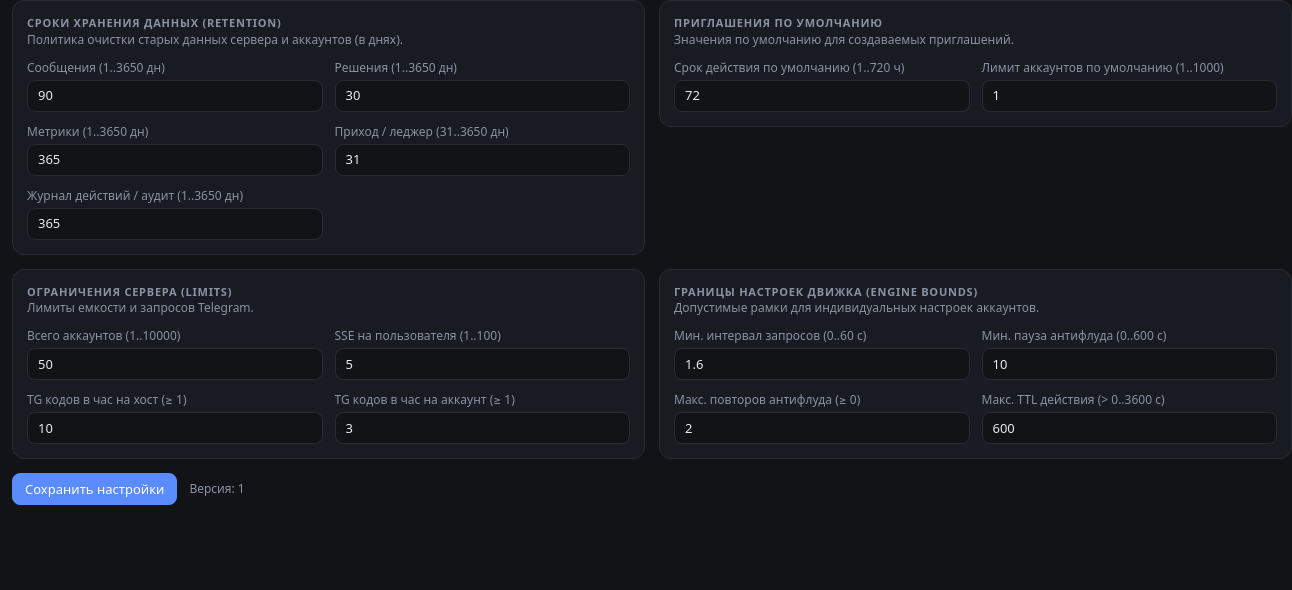
Scenario: Консоль владельца › настройки сервера: пустые и дробные значения отклоняются на клиенте
# Cleared input (empty / null)
Step 1. Clear the number field showing "90" → {"x": 175, "y": 96}, box [27,80,322,112]
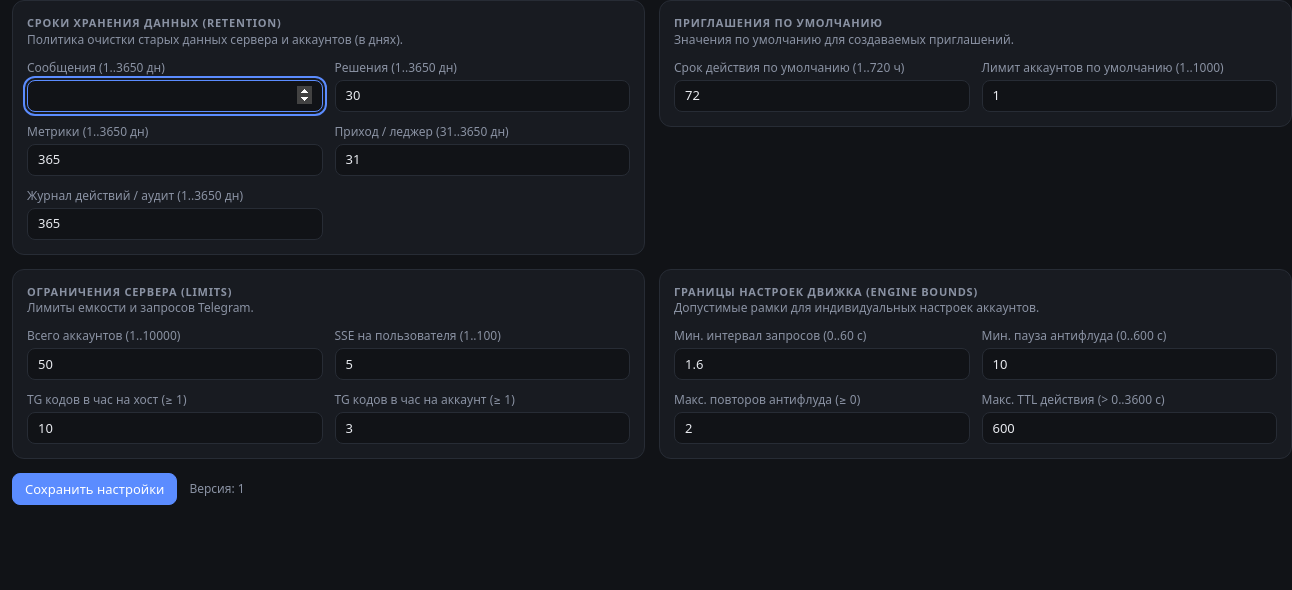
Step 2. Click the button "Сохранить настройки" → {"x": 95, "y": 489}, box [12,473,177,505]
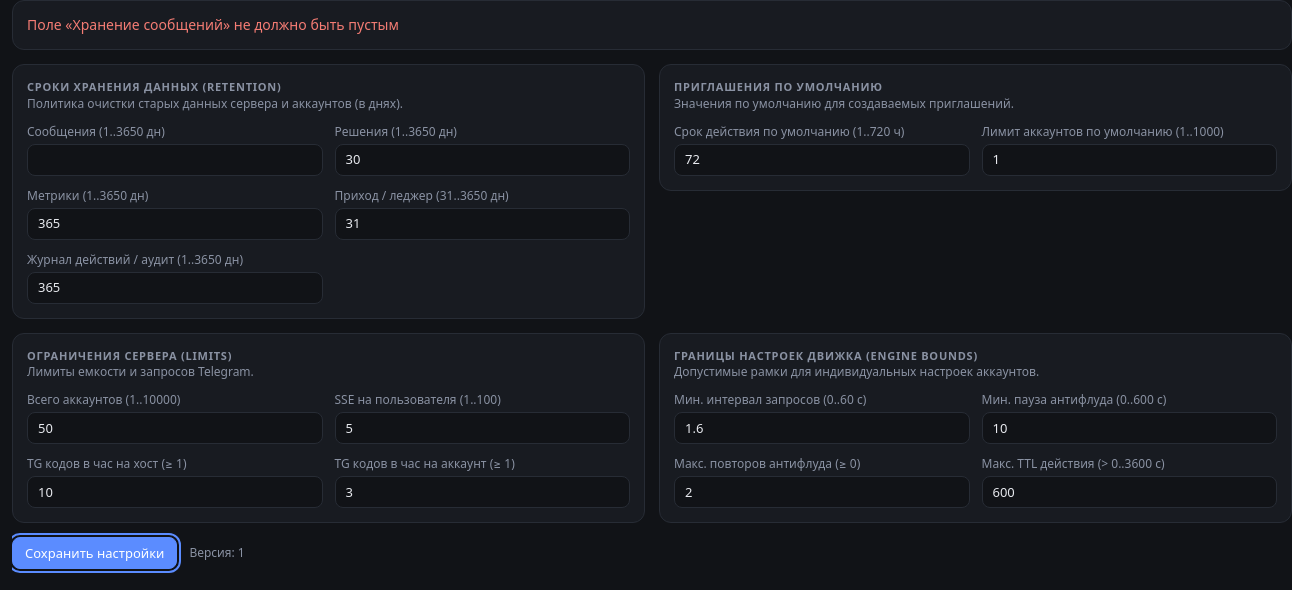
Result: the message shows "Хранение сообщений" at [27,15,399,34]
# Fractional value (1.5 in integer field)
Step 3. Type "1.5" into the number field showing "90" → {"x": 175, "y": 160}, box [27,144,322,176]
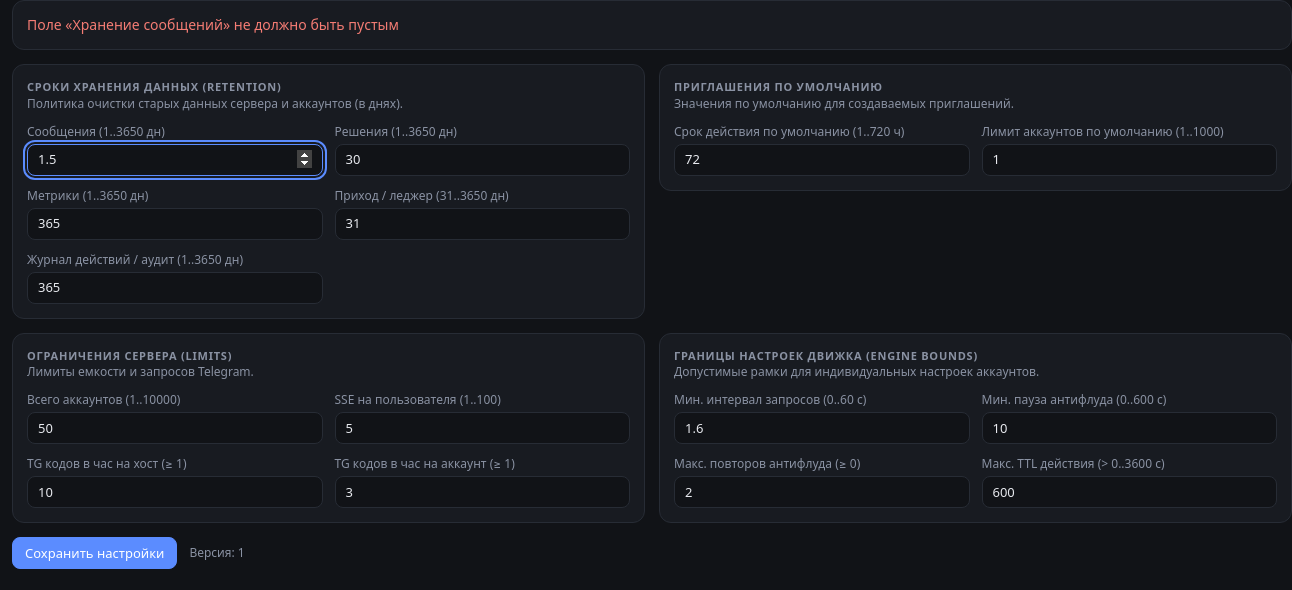
Step 4. Click the button "Сохранить настройки" → {"x": 95, "y": 553}, box [12,537,177,569]
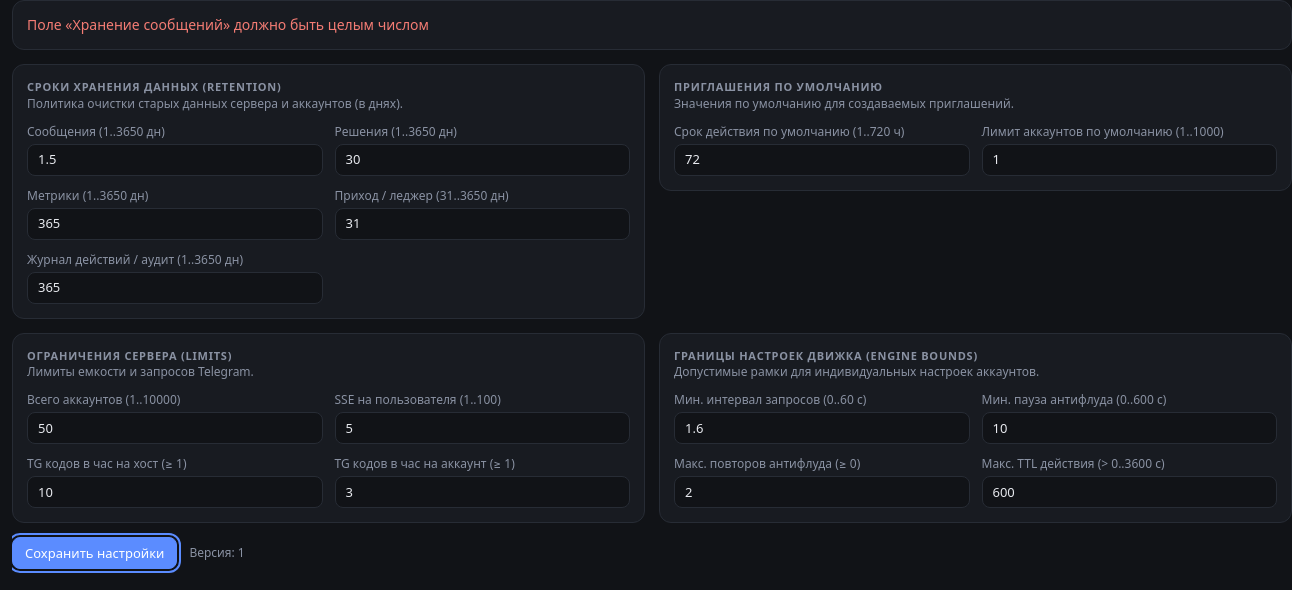
Result: the message shows "целым" at [27,15,429,34]
